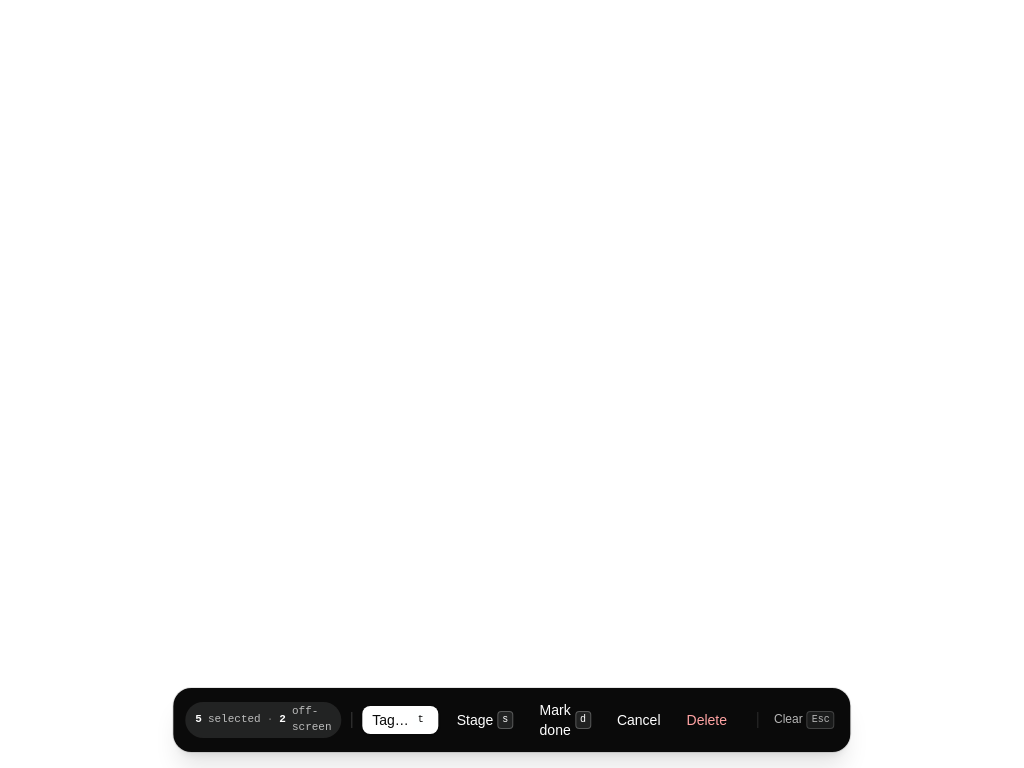
BulkActionBar › clicking Delete with off-screen > 0 shows AlertDialog naming the off-screen count
The width and height of the screenshot is (1024, 768).
Click the button "Delete" at (707, 720), box [678, 706, 735, 734]
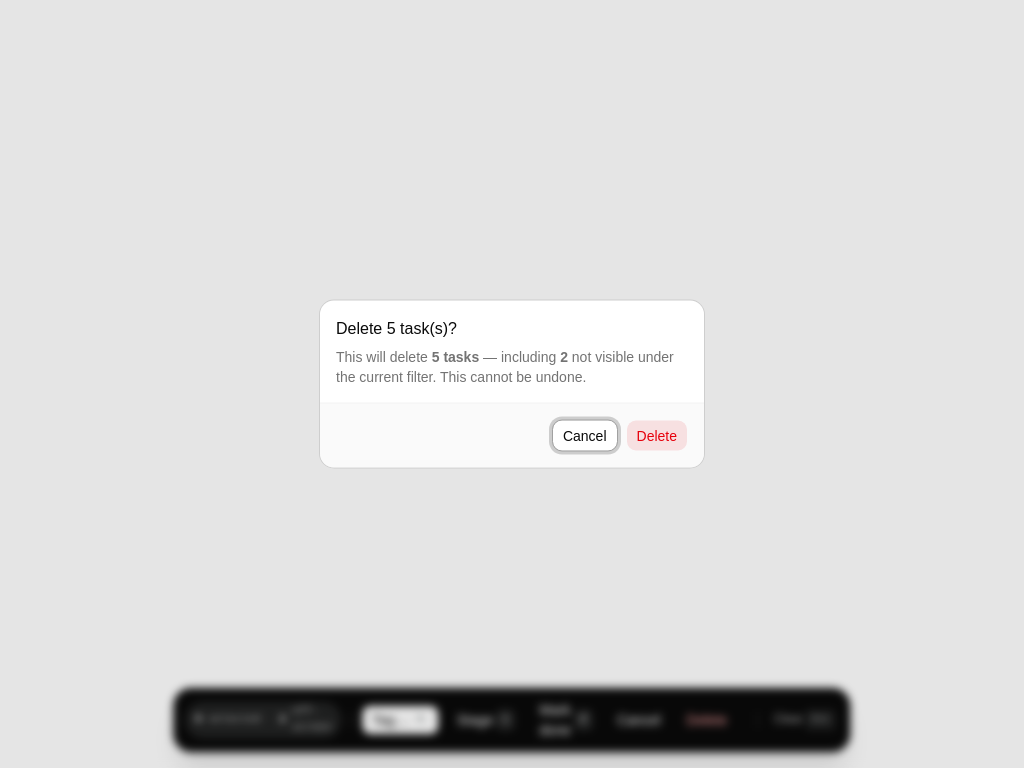
Check: the dialog shows "5", box [387, 320, 396, 336]
Check: the dialog shows "not visible", box [336, 348, 674, 384]
Check: the dialog shows "2", box [560, 348, 568, 364]
